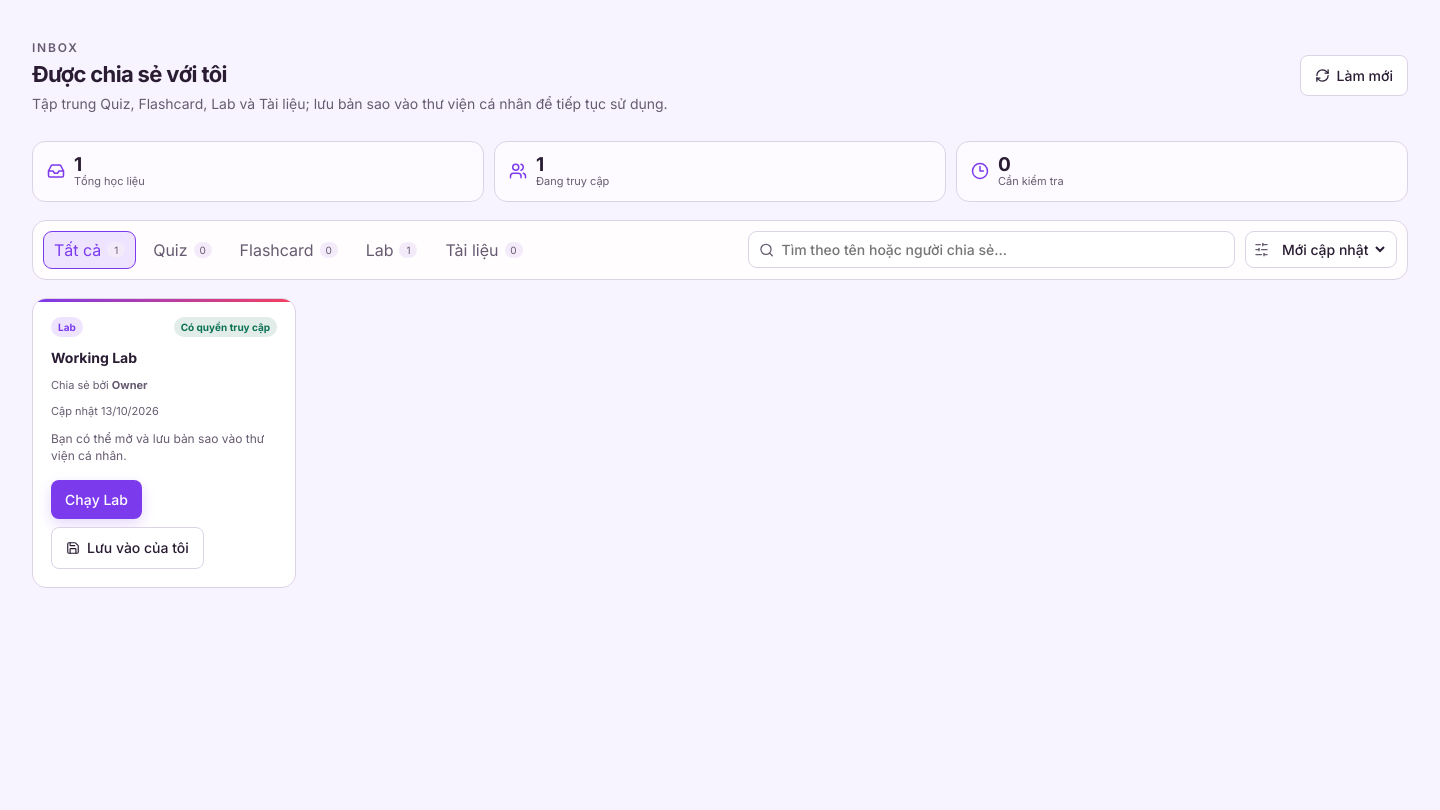
Test: retains the previous list on a failed refresh and clears the error on retry
Click the button "Làm mới" at {"x": 1354, "y": 75}, box [1300,54,1408,96]
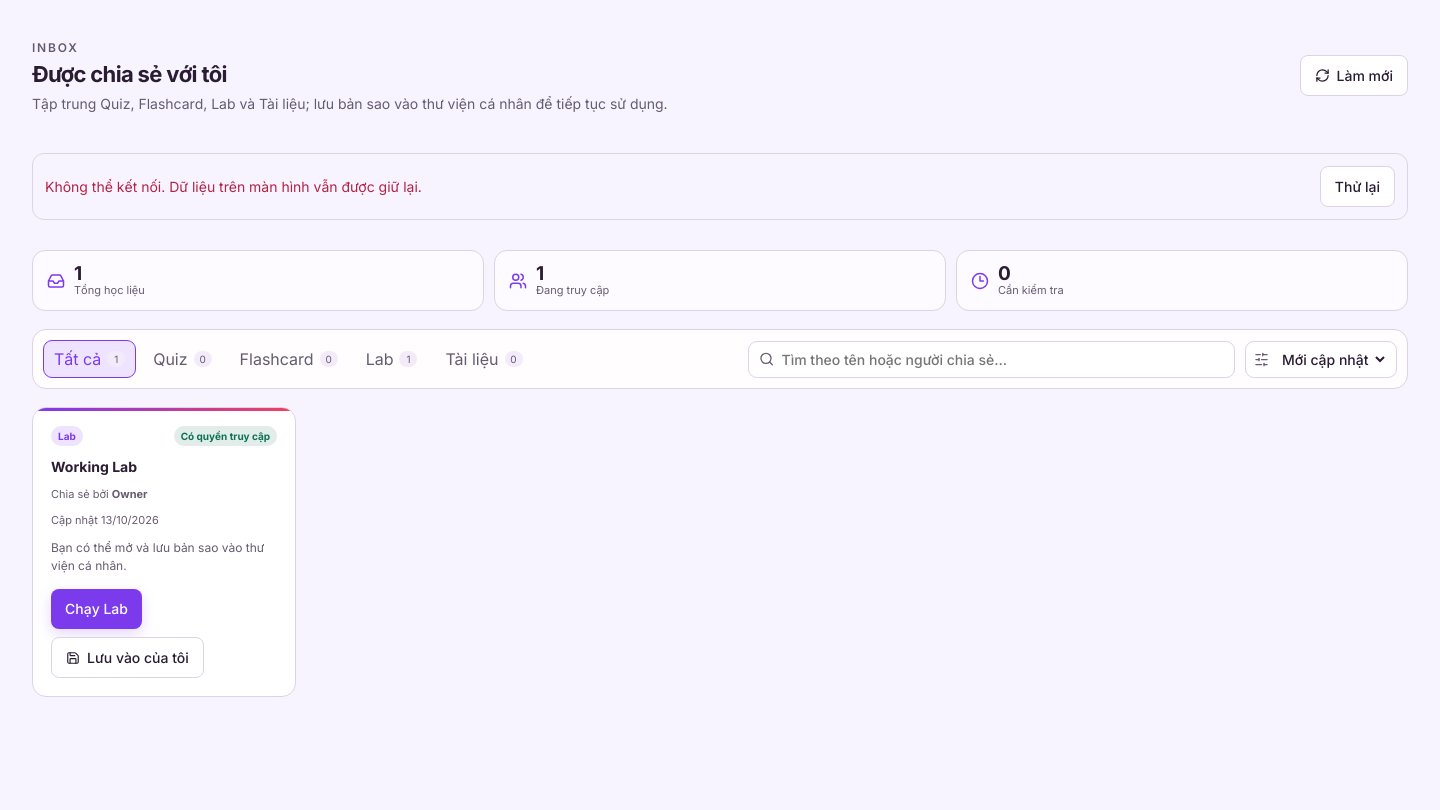
Check: the text "Working Lab" is shown, box [51,458,137,475]
Click the button "Thử lại" at {"x": 1357, "y": 186}, box [1320,166,1395,207]
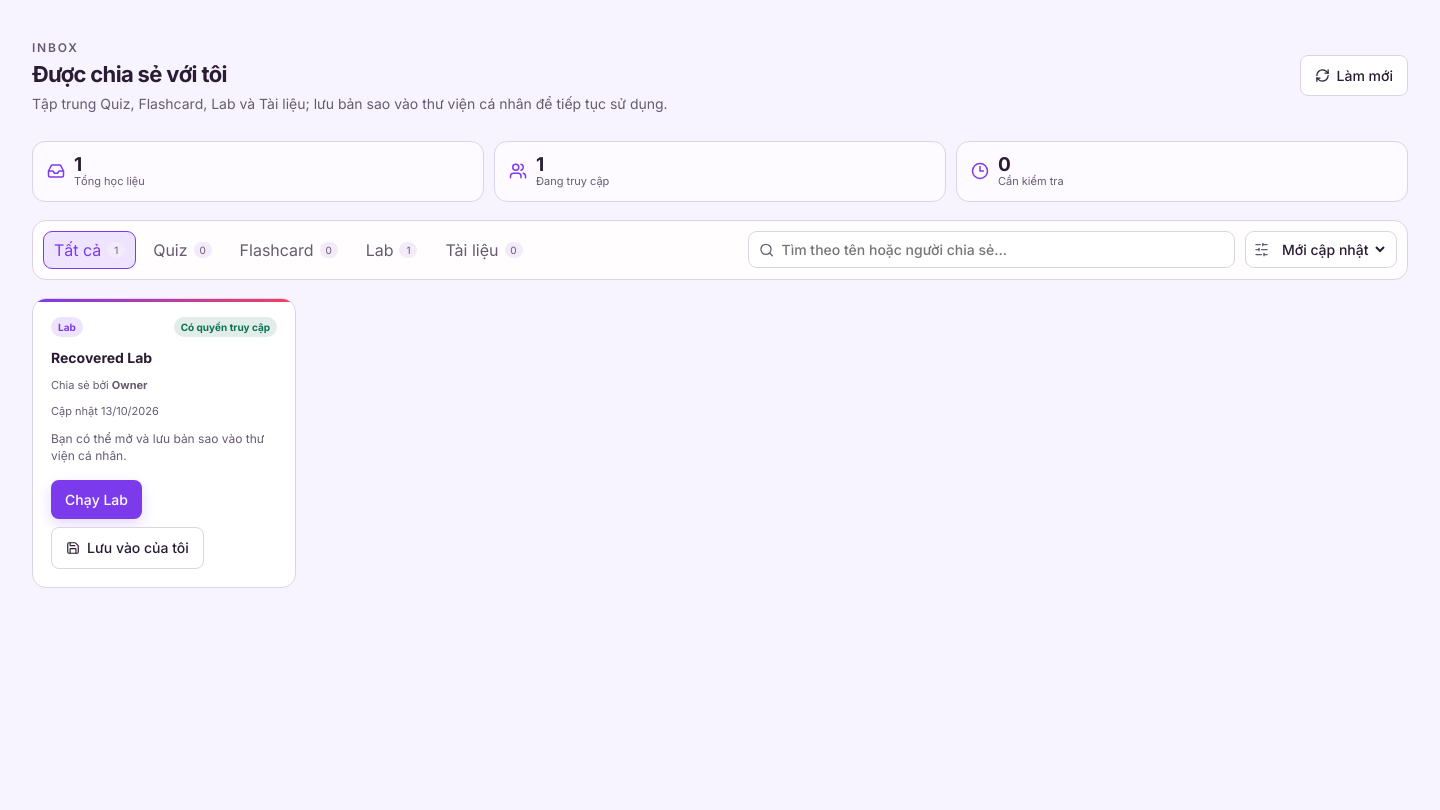
Check: the message "Không thể kết nối. Dữ liệu trên màn hình vẫn được giữ lại. Thử lại" is gone
Check: the text "Recovered Lab" is shown, box [51,349,152,366]
